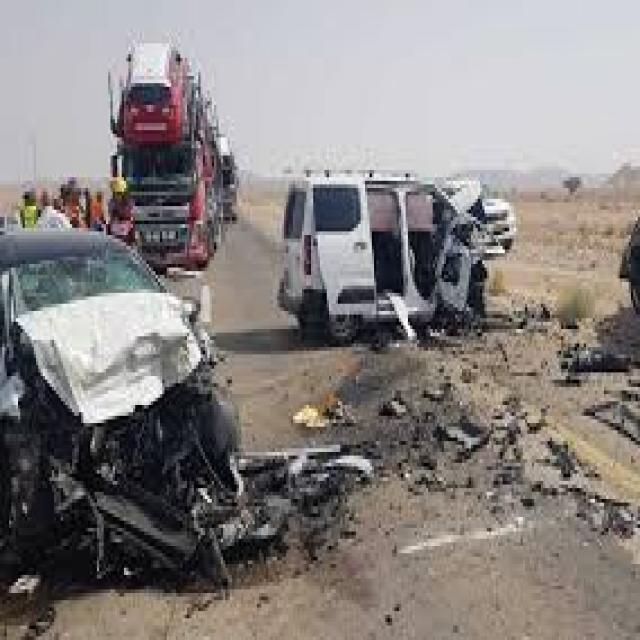accident: (2, 231, 258, 620), (273, 150, 526, 357)
